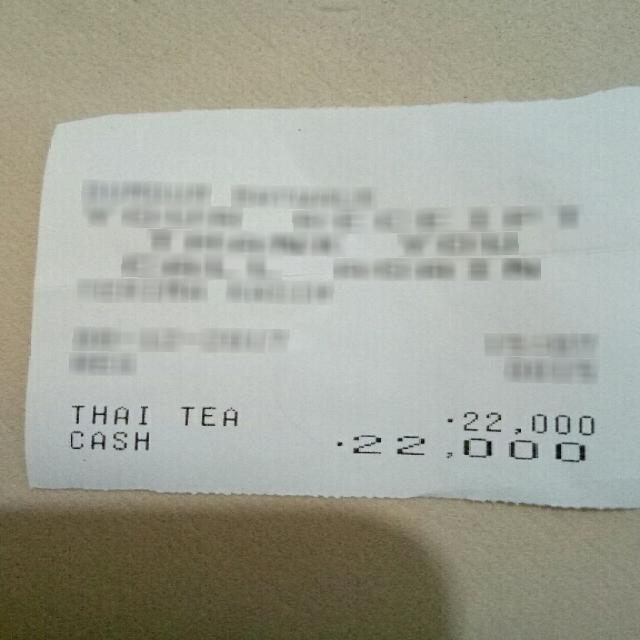kertas: (27, 83, 638, 508)
